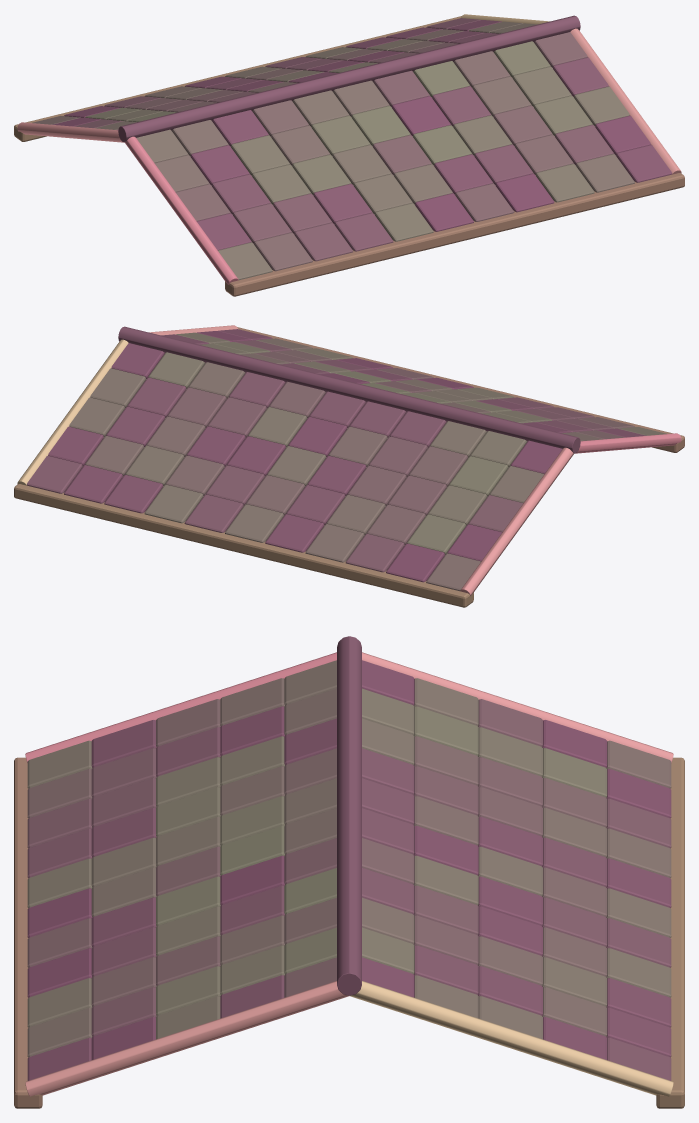
Rendered from WC_RIVER_Roof_CedarSlate_A.glb.
3 renders of one model, top to bottom at view 1: azimuth 30°, elevation 25°; view 2: azimuth 150°, elevation 25°; view 3: azimuth 270°, elevation 25°, orthographic. The views are drawn at different scales.
Parts seen in each view (by area): view 1: WC_RIVER_Roof_CedarSlate_A_RenderMesh; view 2: WC_RIVER_Roof_CedarSlate_A_RenderMesh; view 3: WC_RIVER_Roof_CedarSlate_A_RenderMesh.
Part boxes in pixels (<box>): WC_RIVER_Roof_CedarSlate_A_RenderMesh: <box>14,14,684,296</box>; WC_RIVER_Roof_CedarSlate_A_RenderMesh: <box>14,325,684,607</box>; WC_RIVER_Roof_CedarSlate_A_RenderMesh: <box>14,636,684,1108</box>.
Bounding box in the file's own units: 4.72 × 0.8995 × 3.97.
